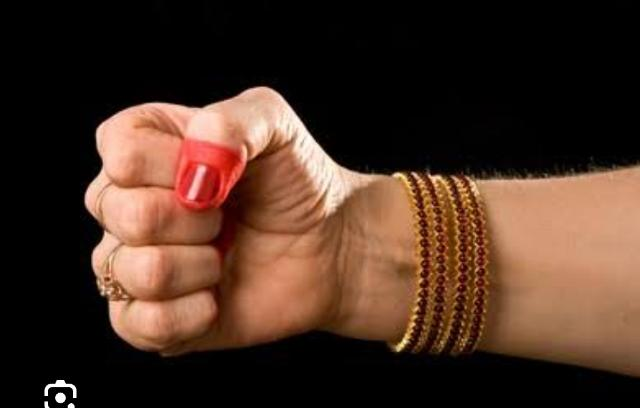mushti: (84, 88, 413, 361)
